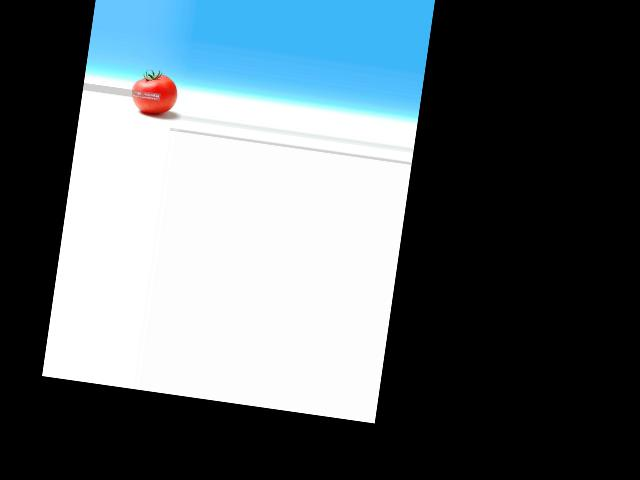tomato: (128, 71, 179, 116)
